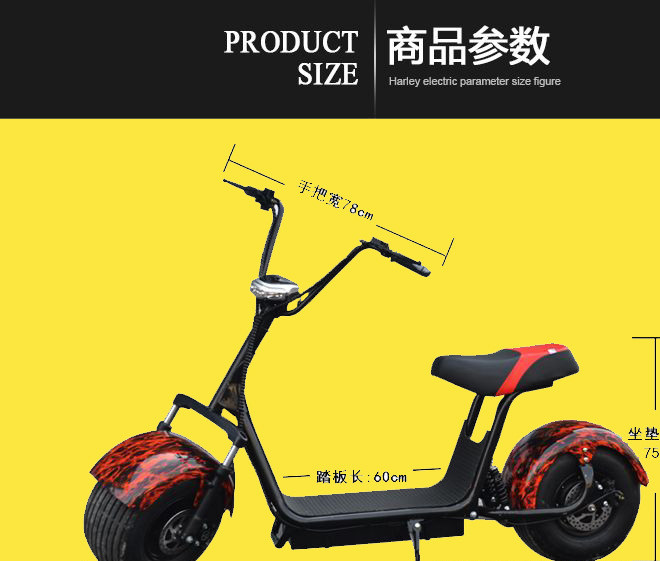电动车: (91, 161, 654, 561)
